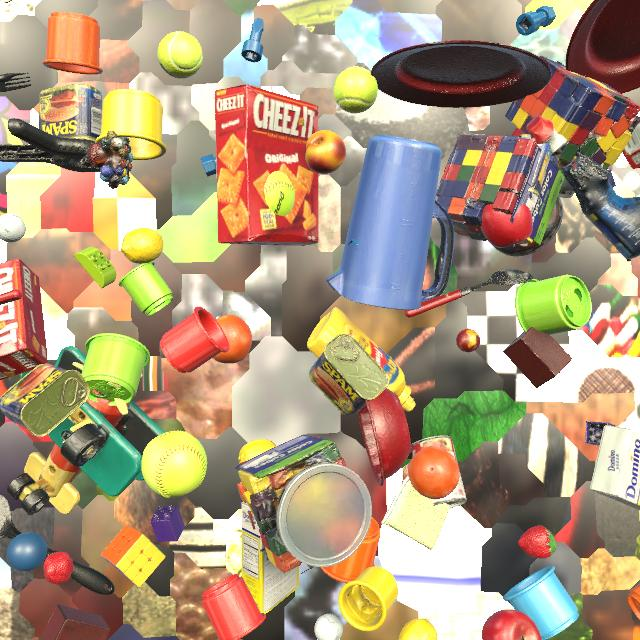ycb_003_cracker_box: (215, 84, 319, 246), (0, 258, 48, 380), (622, 122, 640, 169)
ycb_004_sugar_box: (241, 502, 299, 614), (590, 425, 640, 511)
ycb_005_tomato_soup_can: (411, 435, 467, 509)
ycb_006_mustard_bottle: (307, 307, 416, 412)
ycb_010_potted_meat_can: (0, 363, 90, 437), (309, 333, 389, 416), (39, 84, 102, 143), (519, 134, 559, 201)
ycb_012_strawberry: (518, 525, 557, 558), (43, 552, 74, 584)
ycb_013_apple: (480, 204, 533, 248), (482, 610, 541, 640)
ycb_014_lemon: (121, 228, 164, 264), (238, 439, 276, 464), (398, 618, 437, 640)
ycb_015_peach: (305, 130, 346, 174)
ycb_017_orange: (408, 446, 460, 499), (213, 314, 252, 364)
